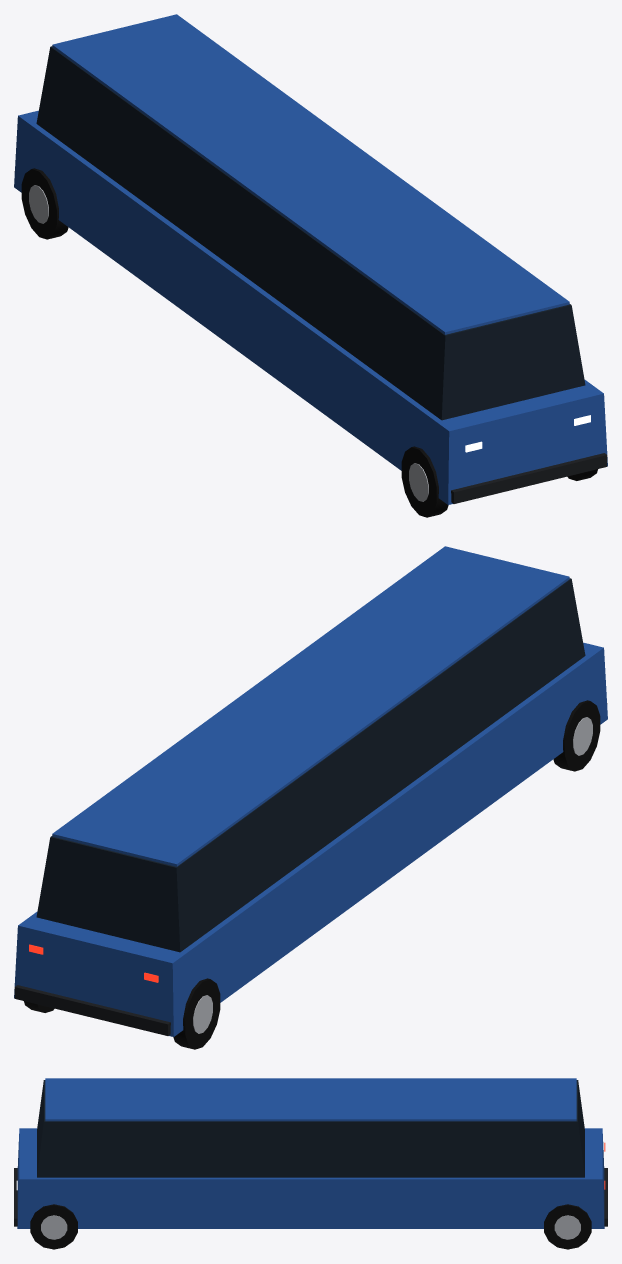
The model's file is bus.glb.
The picture shows the model from 3 angles, top to bottom: view 1: azimuth 30°, elevation 25°; view 2: azimuth 150°, elevation 25°; view 3: azimuth 270°, elevation 25°; orthographic projection. The views are drawn at different scales.
Size of the model in its own units: 2.63 by 2.79 by 12.14.
